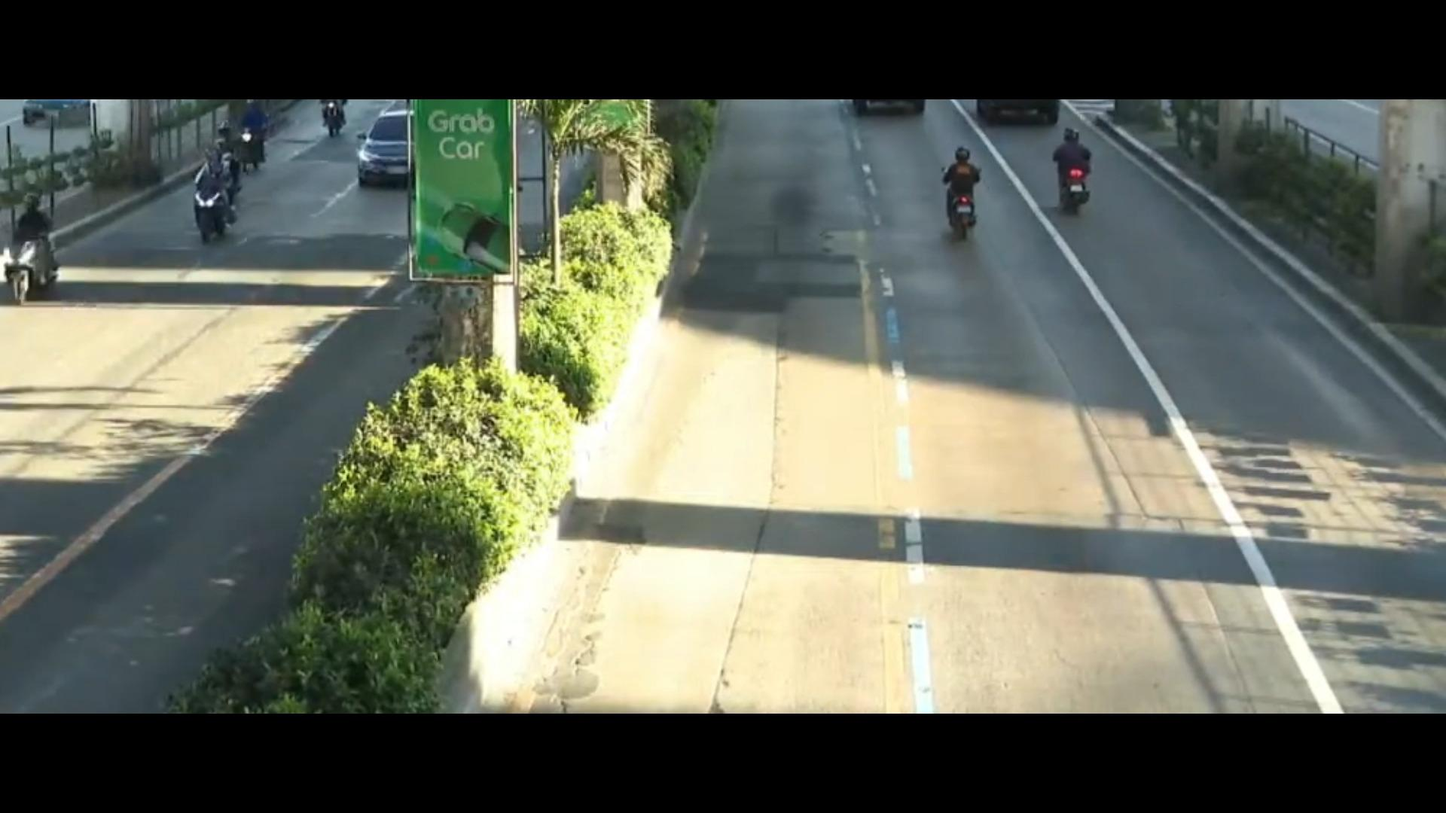Motorcycle: (0, 190, 85, 319), (929, 138, 1013, 256), (167, 136, 253, 243), (1037, 123, 1118, 229), (227, 96, 281, 170), (320, 85, 364, 137)
Sedan: (351, 107, 426, 197)
